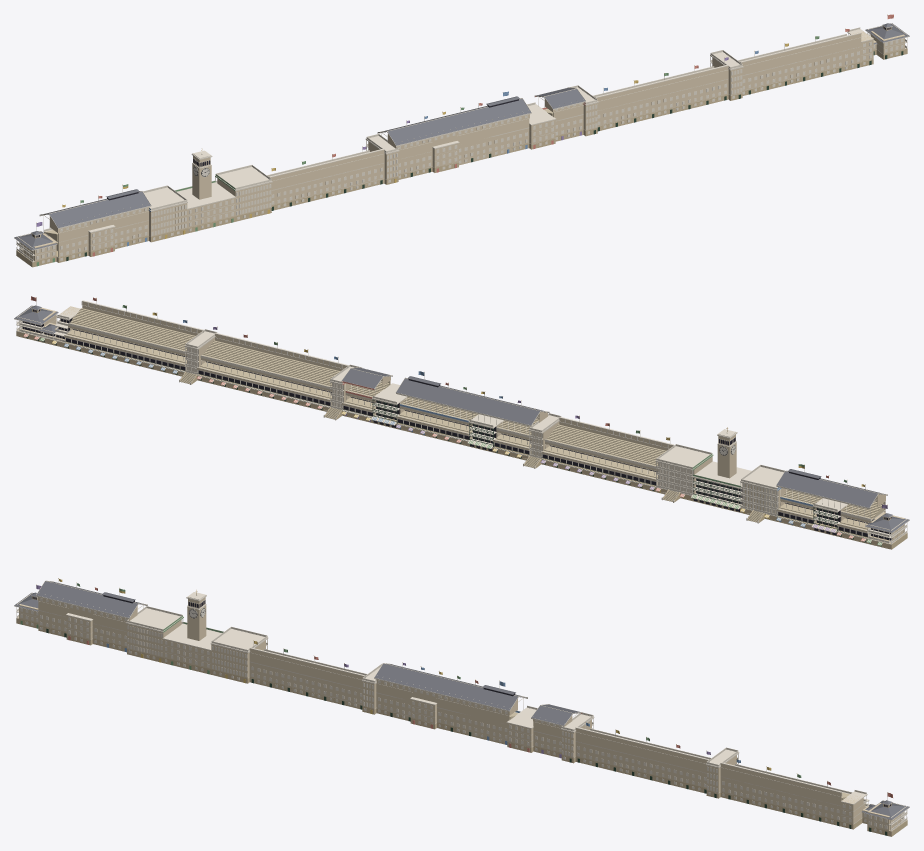
File: ascot_main_stand_far_dressed.glb
3 views of the same model, one above another, from view 1: azimuth 30°, elevation 25°; view 2: azimuth 150°, elevation 25°; view 3: azimuth 330°, elevation 25° (orthographic).
Parts seen in each view (by area): view 1: ascot_stand_far_wall, ascot_stand_far_trim, ascot_stand_far_roof, ascot_stand_far_podium, ascot_stand_far_door; view 2: ascot_stand_far_trim, ascot_stand_far_steps, ascot_stand_far_wall, ascot_stand_far_roof, ascot_stand_far_glass, ascot_stand_far_podium, ascot_stand_far_iron; view 3: ascot_stand_far_wall, ascot_stand_far_trim, ascot_stand_far_roof, ascot_stand_far_podium, ascot_stand_far_door.
Boxes of the visible parts, x1=… form: ascot_stand_far_wall: x1=22, y1=26, x2=904, y2=262; ascot_stand_far_trim: x1=14, y1=23, x2=909, y2=263; ascot_stand_far_roof: x1=14, y1=23, x2=909, y2=250; ascot_stand_far_podium: x1=16, y1=47, x2=907, y2=267; ascot_stand_far_door: x1=36, y1=51, x2=903, y2=266; ascot_stand_far_trim: x1=14, y1=300, x2=909, y2=544; ascot_stand_far_steps: x1=66, y1=308, x2=884, y2=530; ascot_stand_far_wall: x1=32, y1=302, x2=904, y2=540; ascot_stand_far_roof: x1=14, y1=305, x2=909, y2=532; ascot_stand_far_glass: x1=22, y1=309, x2=892, y2=540; ascot_stand_far_podium: x1=16, y1=329, x2=907, y2=549; ascot_stand_far_iron: x1=65, y1=341, x2=866, y2=538; ascot_stand_far_wall: x1=19, y1=596, x2=901, y2=830; ascot_stand_far_trim: x1=14, y1=580, x2=909, y2=832; ascot_stand_far_roof: x1=14, y1=581, x2=909, y2=819; ascot_stand_far_podium: x1=16, y1=617, x2=907, y2=836; ascot_stand_far_door: x1=20, y1=620, x2=887, y2=835.
Size of the model in its own units: 509 by 40.17 by 26.95.
